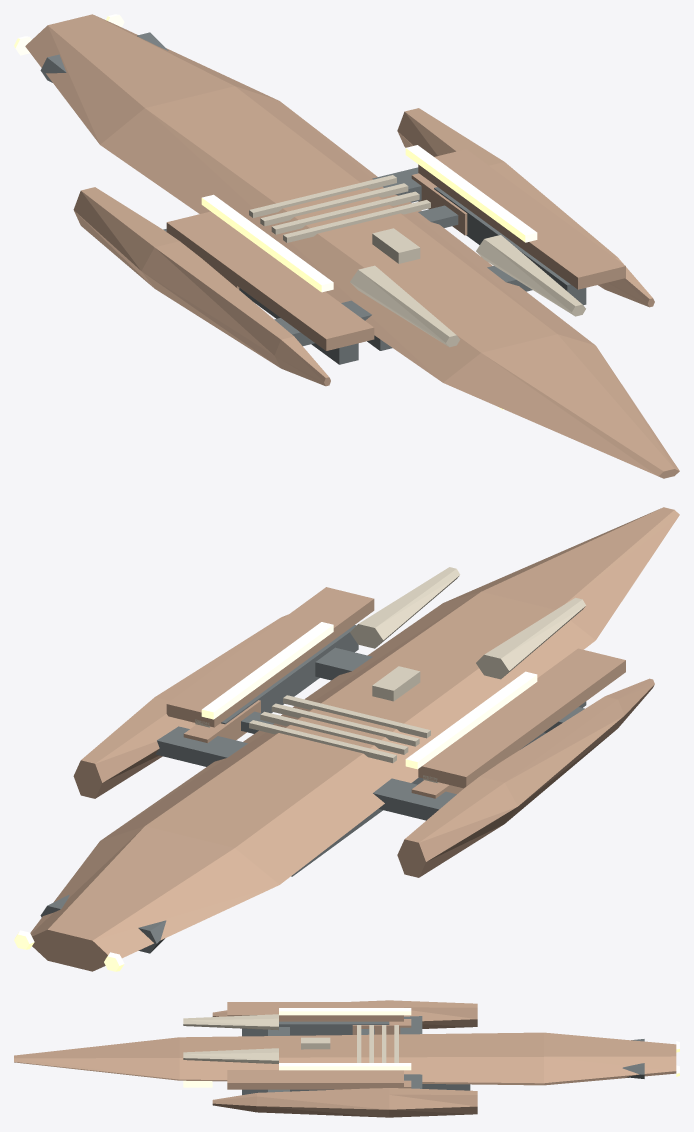
The picture shows the model from 3 angles, top to bottom: view 1: azimuth 30°, elevation 25°; view 2: azimuth 150°, elevation 25°; view 3: azimuth 270°, elevation 25°; orthographic projection. The views are drawn at different scales.
Size of the model in its own units: 6.53 by 1.66 by 18.1.
